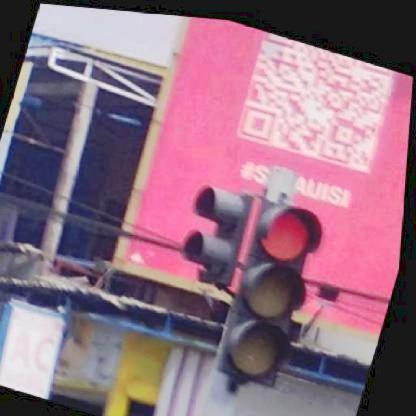Traffic Light -Red-: (215, 188, 332, 386)
